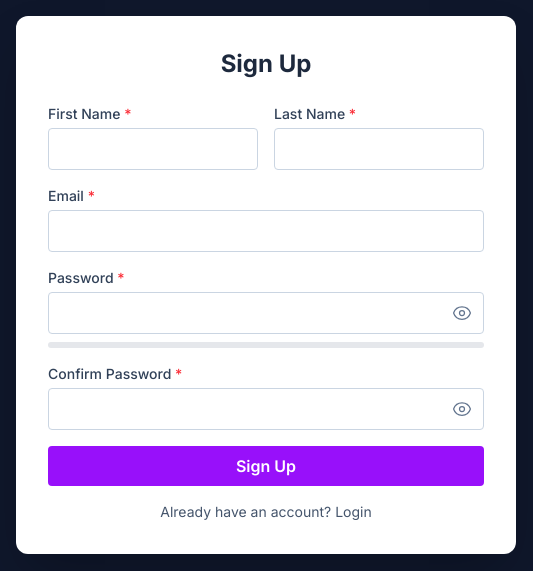
Test: SignupPage Validations › prevents typing numbers in name fields (sanitization)
Type "John123" into the field below "First Name" at (153,149), box top-left (48, 128), bottom-right (258, 170)
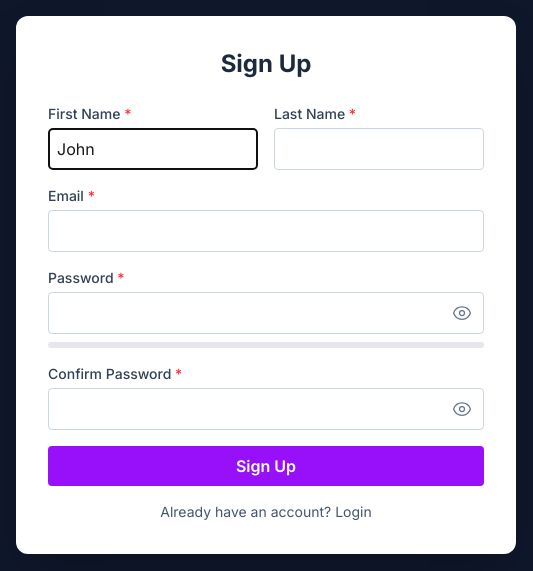
expect the field below "First Name" holds "John": met, box top-left (48, 128), bottom-right (258, 170)
